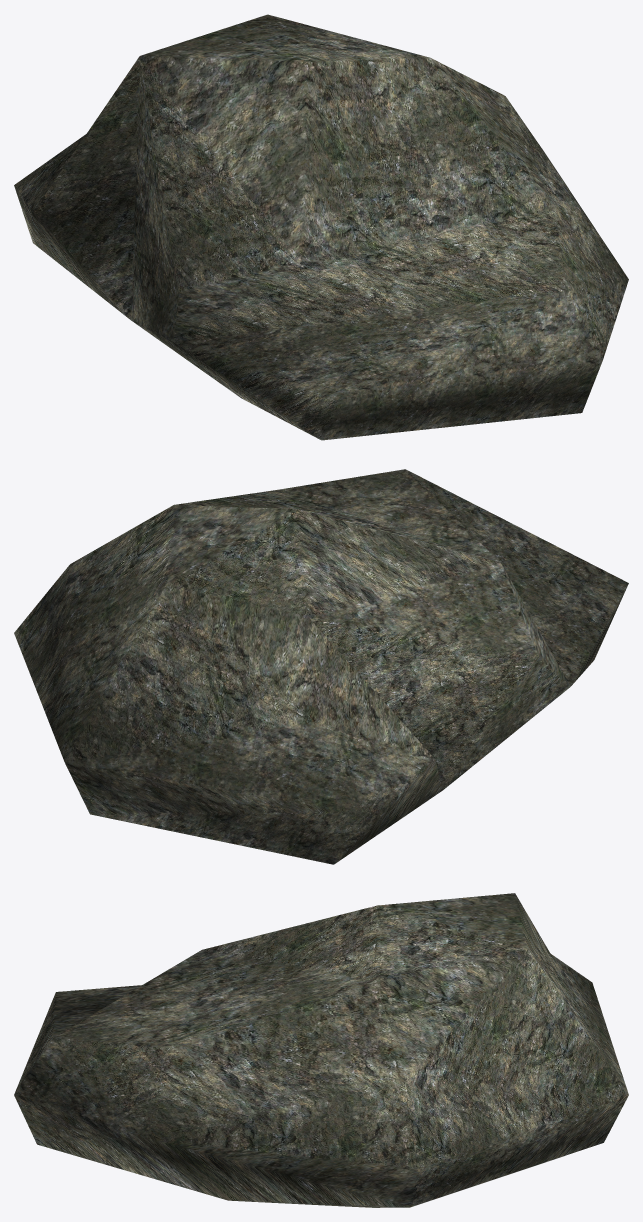
The model's file is mtns_rock_grey_a9_l1.fbx.
3 views of the same model, one above another, from view 1: azimuth 30°, elevation 25°; view 2: azimuth 150°, elevation 25°; view 3: azimuth 270°, elevation 25° (orthographic). The views are drawn at different scales.
Parts seen in each view (by area): view 1: mesh_node; view 2: mesh_node; view 3: mesh_node.
Part boxes in pixels (box(x1,y1,x2,y2)): mesh_node: box(14, 14, 628, 440); mesh_node: box(14, 469, 628, 864); mesh_node: box(14, 893, 628, 1207).
Bounding box in the file's own units: 1.68 × 0.9647 × 2.18.
Materials: 1 (1 with a texture image).
